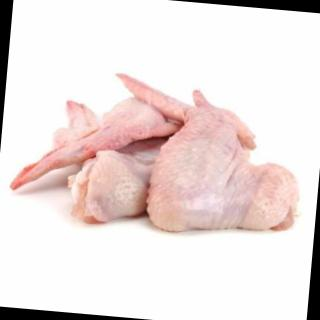Ayam: (10, 63, 316, 238), (104, 74, 310, 238)
